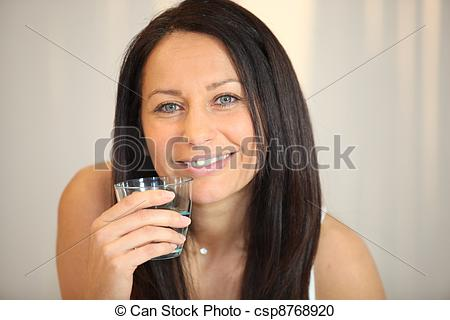glass of water: (115, 181, 193, 251)
